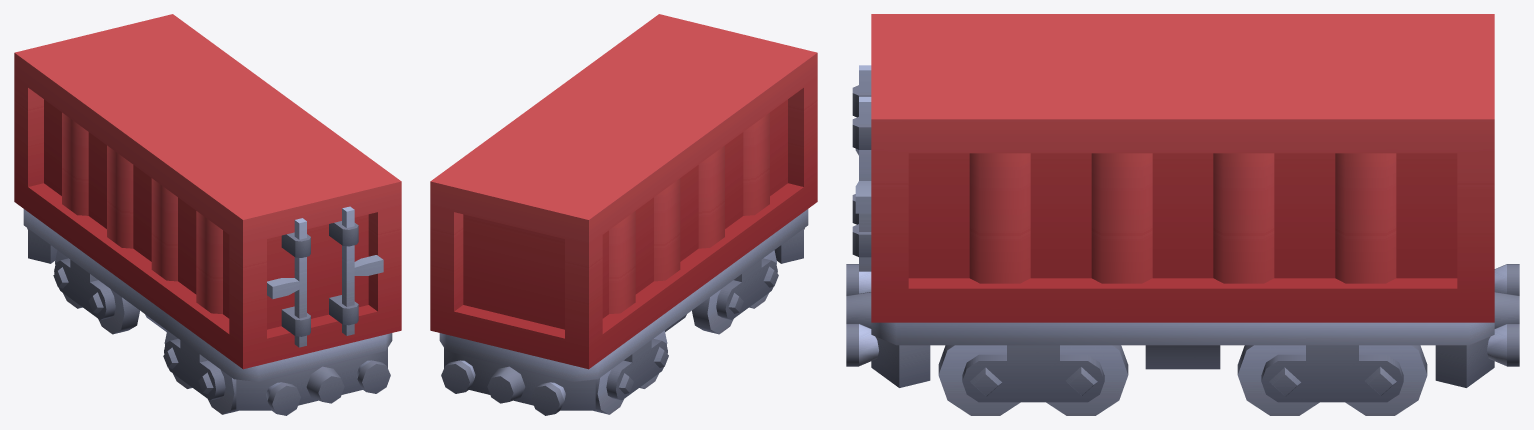
File: train-wag3.glb
The picture shows the model from 3 angles, left to right: view 1: azimuth 30°, elevation 25°; view 2: azimuth 150°, elevation 25°; view 3: azimuth 270°, elevation 25°; orthographic projection. The views are drawn at different scales.
Visible parts, largest first — view 1: train-carriage-container-red; view 2: train-carriage-container-red; view 3: train-carriage-container-red.
Boxes of the visible parts, x1,y1,x2,y2 form: train-carriage-container-red: [14, 14, 401, 415]; train-carriage-container-red: [430, 14, 817, 415]; train-carriage-container-red: [846, 14, 1519, 415].
Size of the model in its own units: 1 by 1.36 by 2.7.
1 material, 1 textured.
